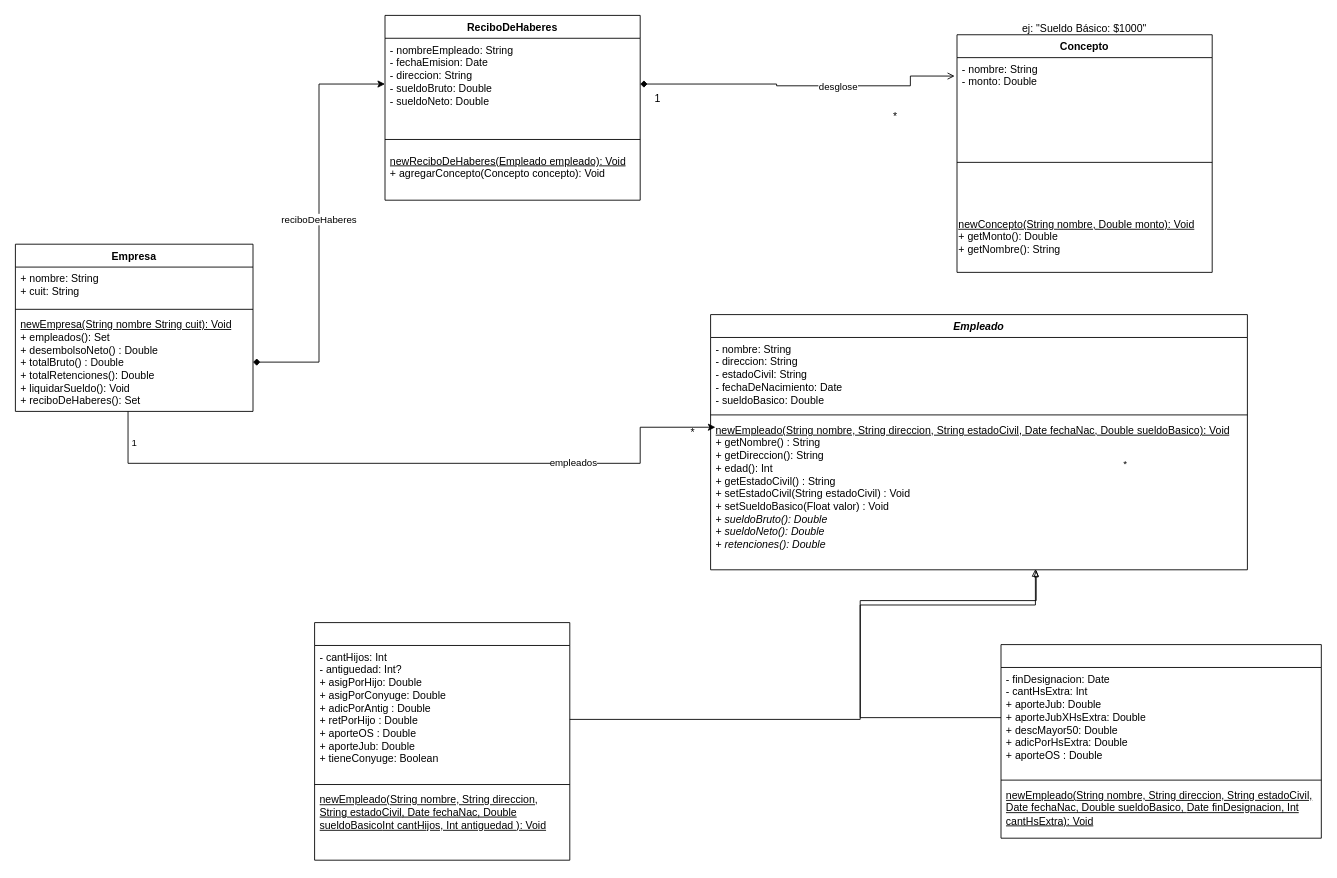
The diagram is 1337 pixels wide and 878 high, and some of its shapes have lost their labels. The box of each missing label's shape, as (x1, y1, x2, y2) in pixels:
EmpleadoPermanente: (314, 622, 570, 860)
EmpleadoTemporario: (1000, 644, 1321, 838)
